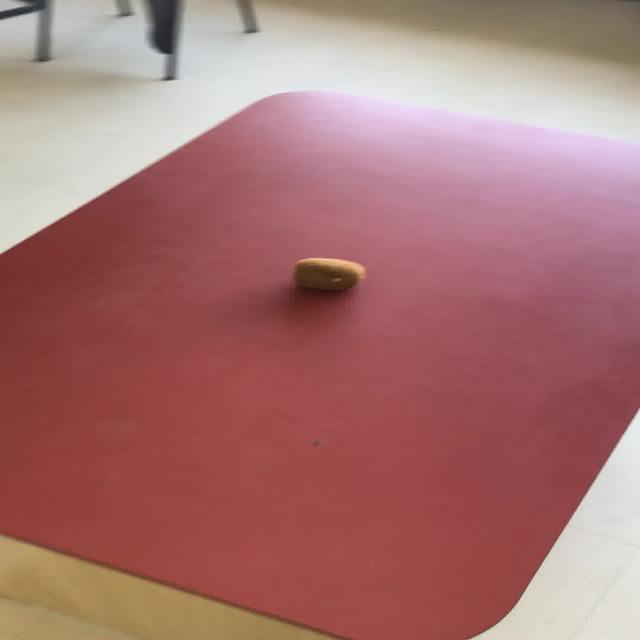kiwi: (293, 256, 366, 290)
